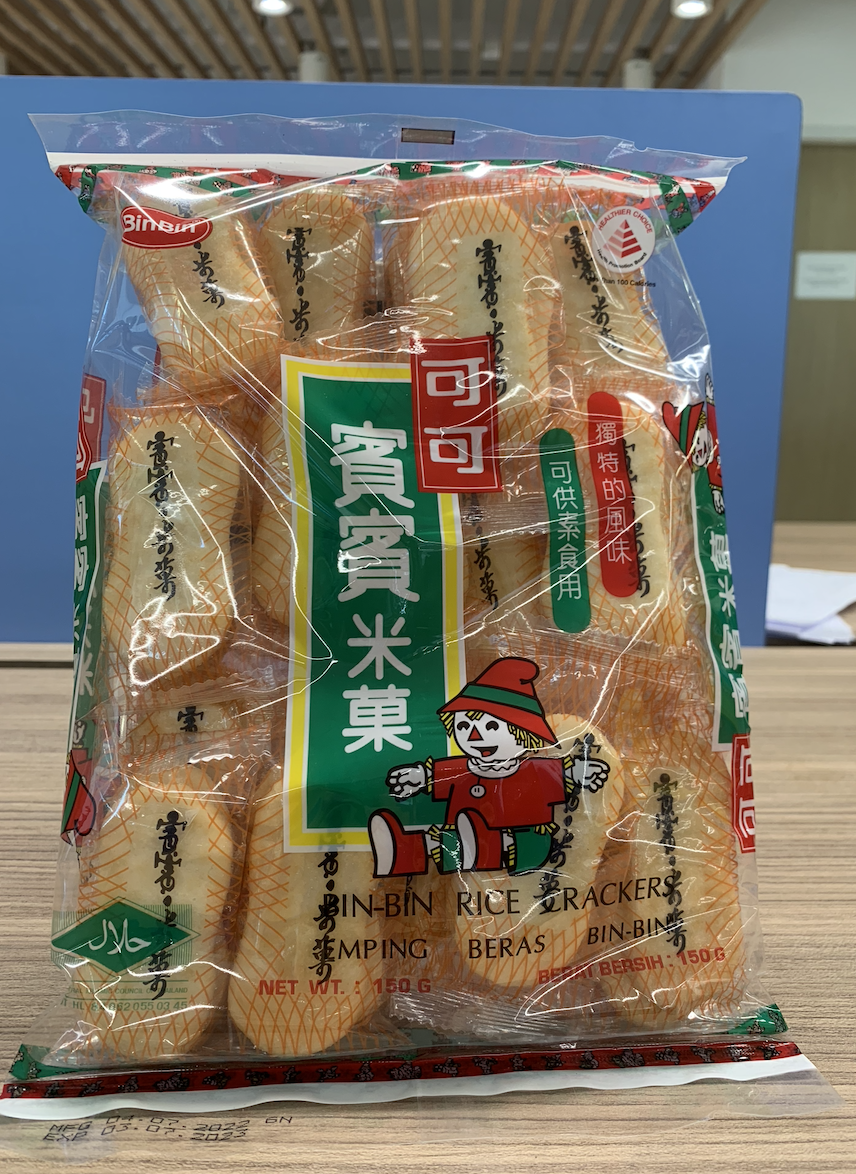crackers_100g-199g: (92, 148, 749, 1044)
